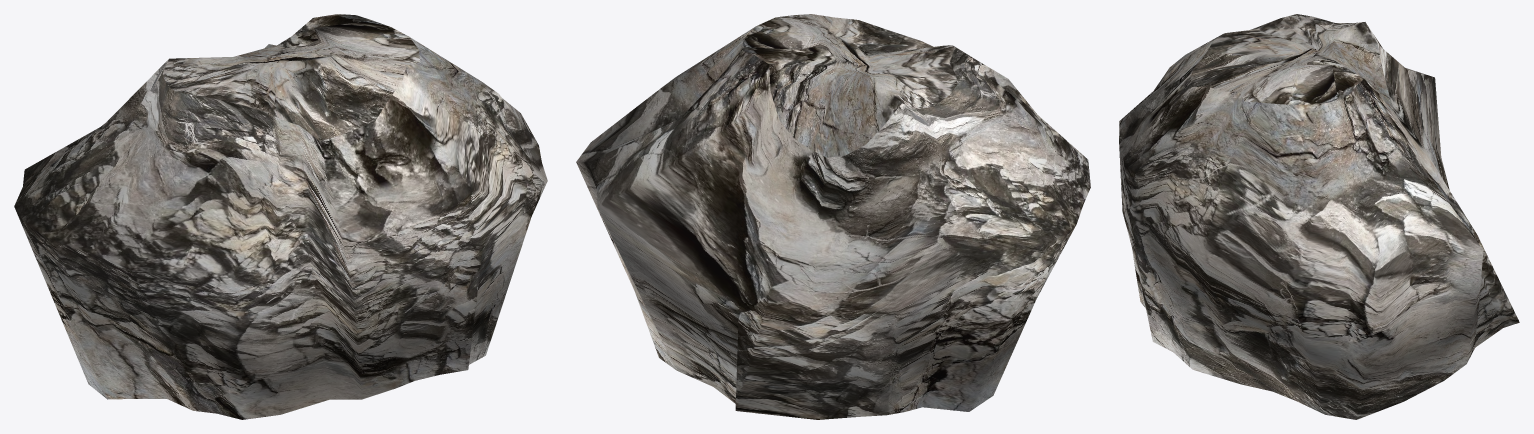
Rendered from rock.glb.
3 renders of one model, left to right at view 1: azimuth 30°, elevation 25°; view 2: azimuth 150°, elevation 25°; view 3: azimuth 270°, elevation 25°, orthographic. The views are drawn at different scales.
Size of the model in its own units: 6.32 by 3.89 by 4.87.
1 material, 1 textured.
